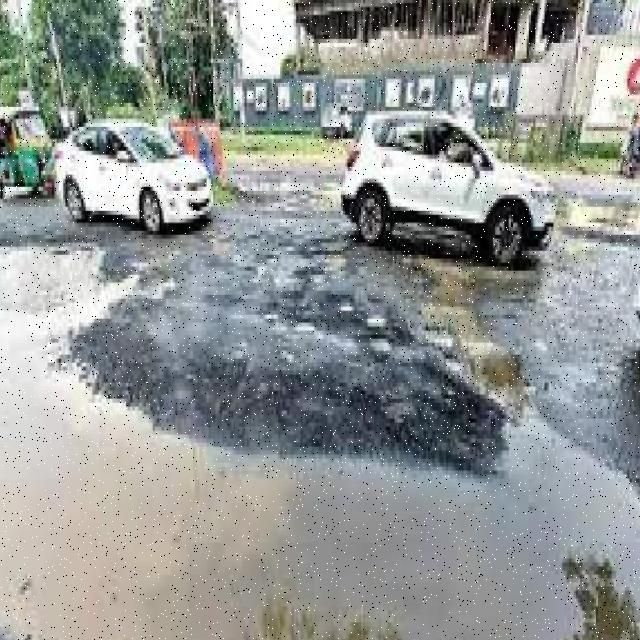pothole: (0, 203, 640, 640)
